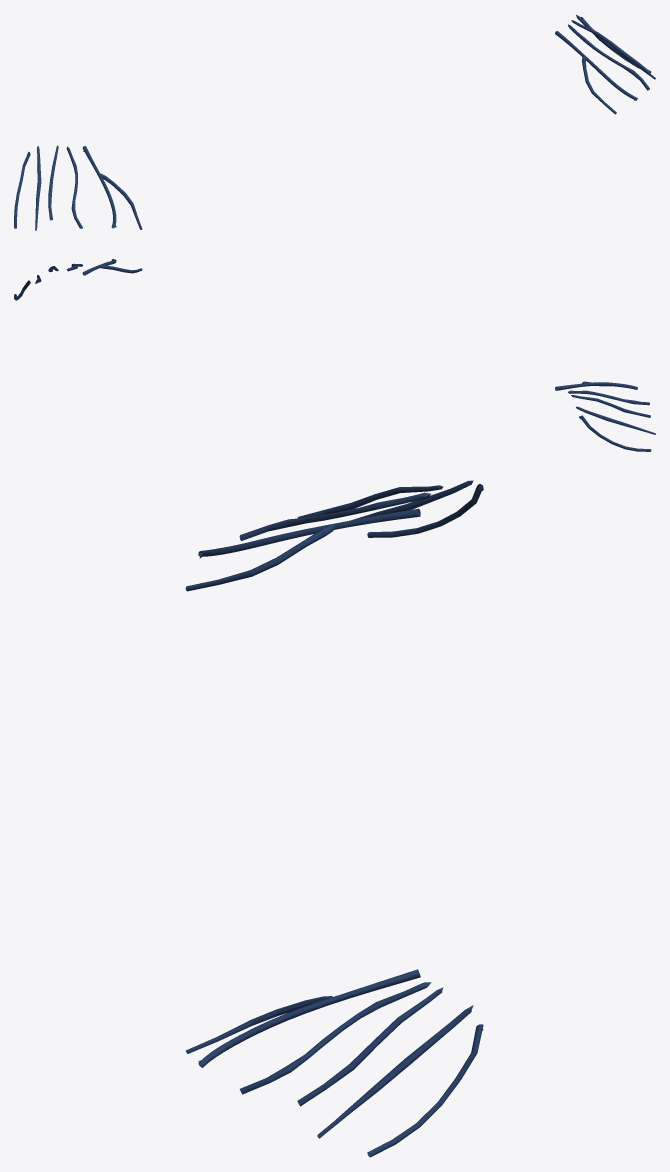
The model's file is Vena Metatarsiana Dorsal.FBX.
3 views of the same model, one above another, from view 1: azimuth 30°, elevation 25°; view 2: azimuth 150°, elevation 25°; view 3: azimuth 270°, elevation 25° (orthographic). The views are drawn at different scales.
Visible parts, largest first — view 1: CS_Veins; view 2: CS_Veins; view 3: CS_Veins.
Part boxes in pixels (x1,y1,x2,y2): CS_Veins: [14, 15, 655, 230]; CS_Veins: [14, 259, 655, 451]; CS_Veins: [185, 480, 483, 1157].
Size of the model in its own units: 1800 by 149 by 365.
